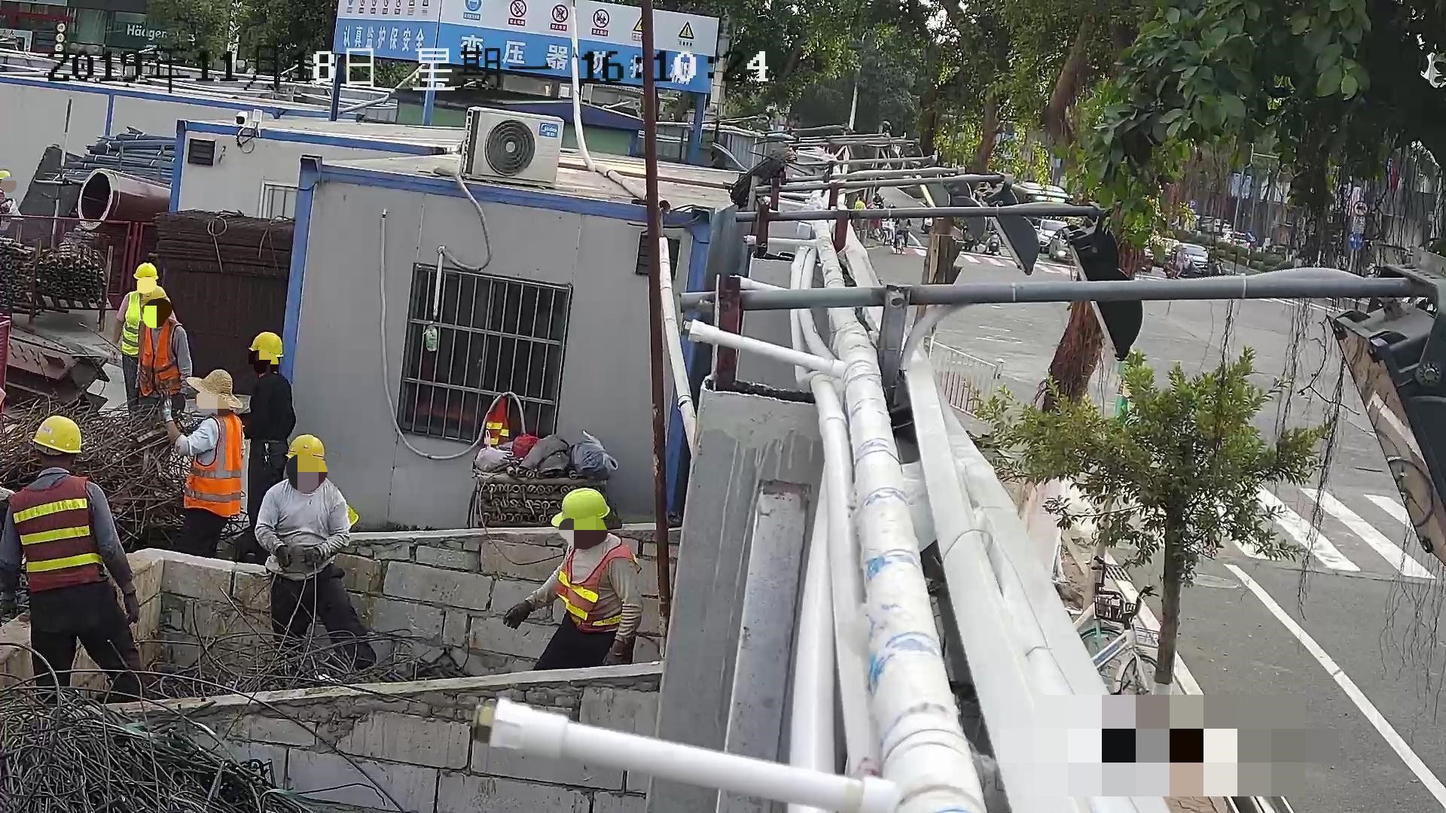hat: (550, 487, 611, 547), (32, 414, 82, 472), (286, 434, 326, 490), (248, 331, 283, 375), (139, 284, 172, 326), (133, 261, 158, 297)
head: (185, 368, 242, 414)
person: (2, 416, 142, 697), (254, 434, 377, 668), (505, 485, 642, 669), (165, 372, 243, 553), (107, 263, 178, 408), (247, 333, 297, 526), (137, 285, 191, 410)
